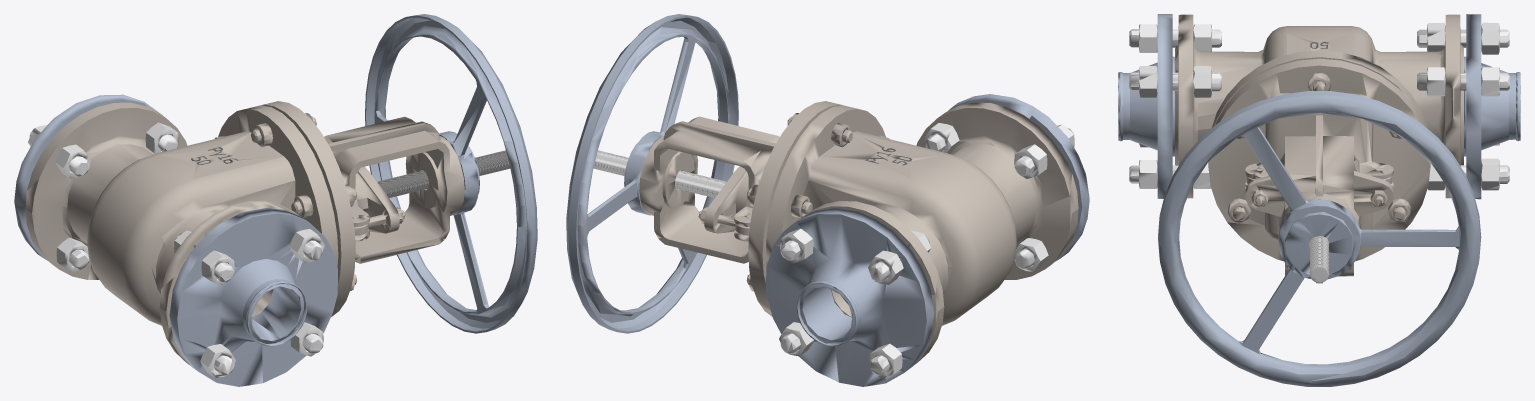
Rendered from 305_2_5_VW_29_Задвижка_31лс41нж_DN50_PN16_d93d7ed.fbx.
3 renders of one model, left to right at view 1: azimuth 30°, elevation 25°; view 2: azimuth 150°, elevation 25°; view 3: azimuth 270°, elevation 25°, orthographic.
Visible parts, largest first — view 1: ActiveObject.012, AdditionalObject.003, AdditionalObject.008.022; view 2: ActiveObject.012, AdditionalObject.003, AdditionalObject.008.022; view 3: ActiveObject.012, AdditionalObject.003, AdditionalObject.008.022.
Part boxes in pixels (x1,y1,x2,y2): ActiveObject.012: [14, 94, 464, 386]; AdditionalObject.003: [365, 14, 537, 333]; AdditionalObject.008.022: [377, 150, 510, 197]; ActiveObject.012: [639, 94, 1089, 386]; AdditionalObject.003: [566, 14, 738, 333]; AdditionalObject.008.022: [593, 150, 726, 197]; ActiveObject.012: [1118, 14, 1520, 283]; AdditionalObject.003: [1158, 91, 1481, 386]; AdditionalObject.008.022: [1310, 236, 1328, 282].
Size of the model in its own units: 42.47 by 27.9 by 34.81.
